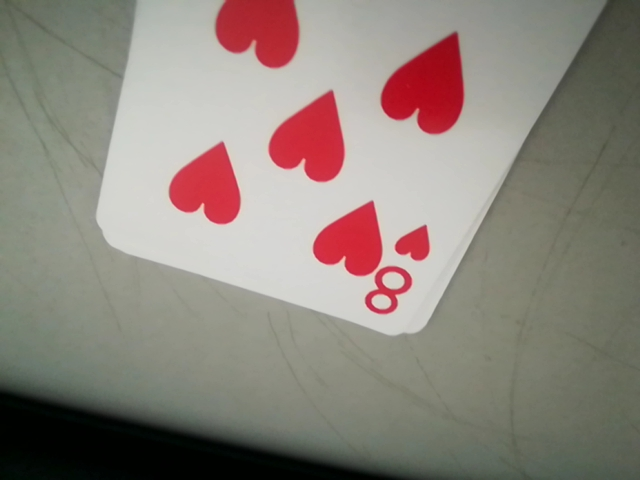hx 8: (365, 220, 446, 324)
